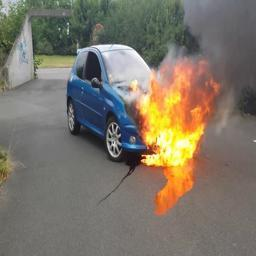fire: (132, 61, 220, 167)
